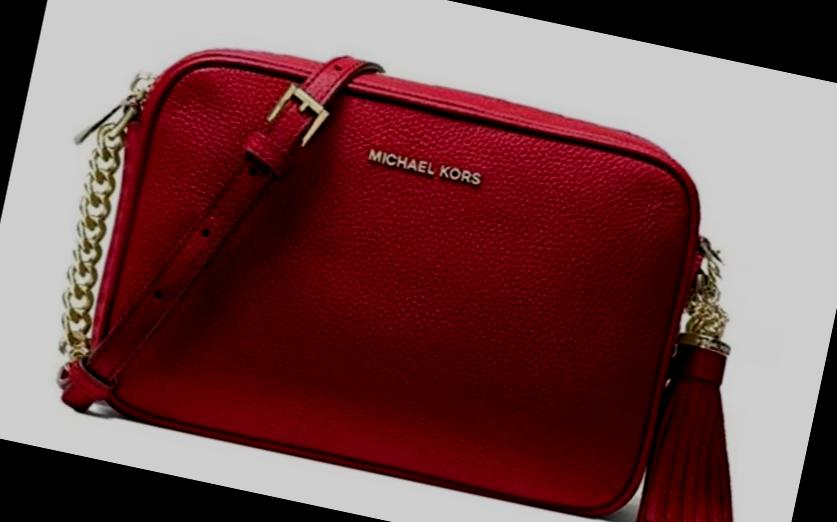MICHAEL-KORS: (367, 148, 482, 185)
